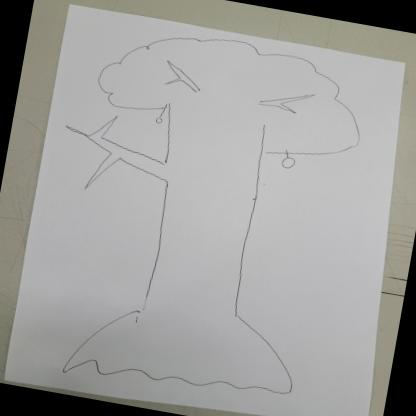apple: (276, 150, 300, 170), (150, 110, 167, 129)
branch_sharp: (153, 54, 316, 123)
crown_cloud: (88, 16, 374, 168)
root_only: (56, 292, 304, 412)
trunk_straight: (138, 194, 264, 306)
